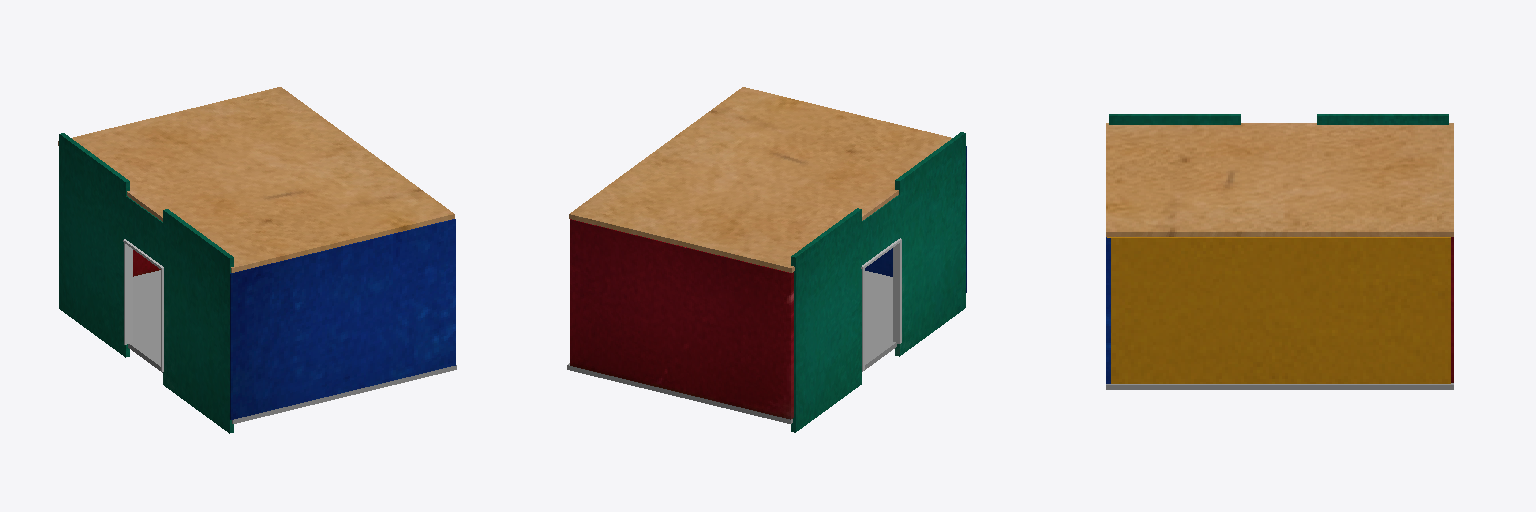
3 renders of one model, left to right at view 1: azimuth 30°, elevation 25°; view 2: azimuth 150°, elevation 25°; view 3: azimuth 270°, elevation 25°, orthographic.
Visible parts, largest first — view 1: Cube.001, Cube.003, Cube.007, Cube.009, Cube.006_Cube.010; view 2: Cube.001, Cube.002, Cube.007, Cube.009, Cube.008_Cube.011, Cube.003; view 3: Cube.004, Cube.001, Cube.007, Cube.009, Cube.003.
Boxes of the visible parts, x1,y1,x2,y2 form: Cube.001: [58, 87, 454, 272]; Cube.003: [230, 219, 455, 419]; Cube.007: [59, 133, 233, 433]; Cube.009: [128, 270, 456, 423]; Cube.006_Cube.010: [124, 243, 132, 344]; Cube.001: [569, 87, 951, 272]; Cube.002: [570, 219, 793, 419]; Cube.007: [791, 132, 965, 432]; Cube.009: [567, 271, 896, 423]; Cube.008_Cube.011: [893, 242, 901, 343]; Cube.003: [865, 146, 966, 292]; Cube.004: [1107, 237, 1450, 383]; Cube.001: [1106, 123, 1453, 236]; Cube.007: [1109, 114, 1448, 124]; Cube.009: [1106, 383, 1453, 389]; Cube.003: [1106, 237, 1110, 383].
Size of the model in its own units: 37.27 by 27.36 by 49.3.
3 materials, 1 textured.